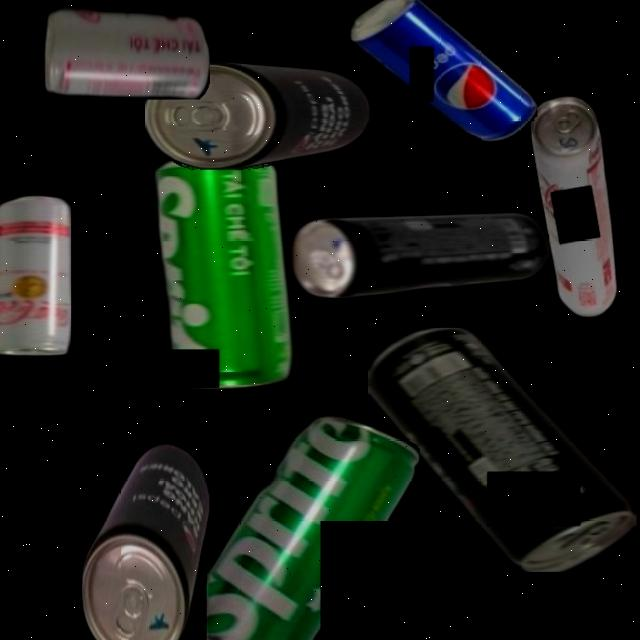debris: (368, 326, 636, 572), (206, 416, 420, 640), (155, 156, 294, 389), (347, 0, 537, 142), (80, 443, 210, 640), (145, 59, 371, 170), (524, 90, 632, 322), (290, 211, 549, 298), (42, 6, 210, 100), (0, 194, 71, 355)
